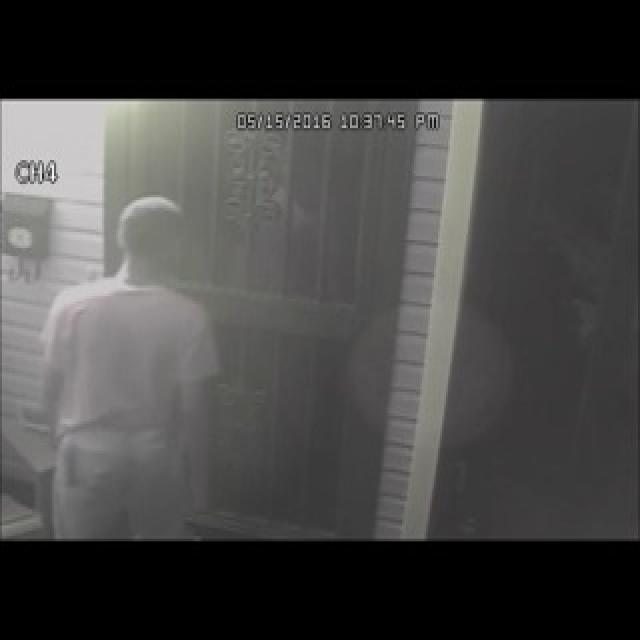thief: (84, 165, 196, 370)
